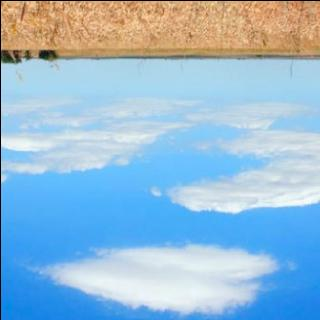Cirrostratus: (0, 100, 320, 310)
